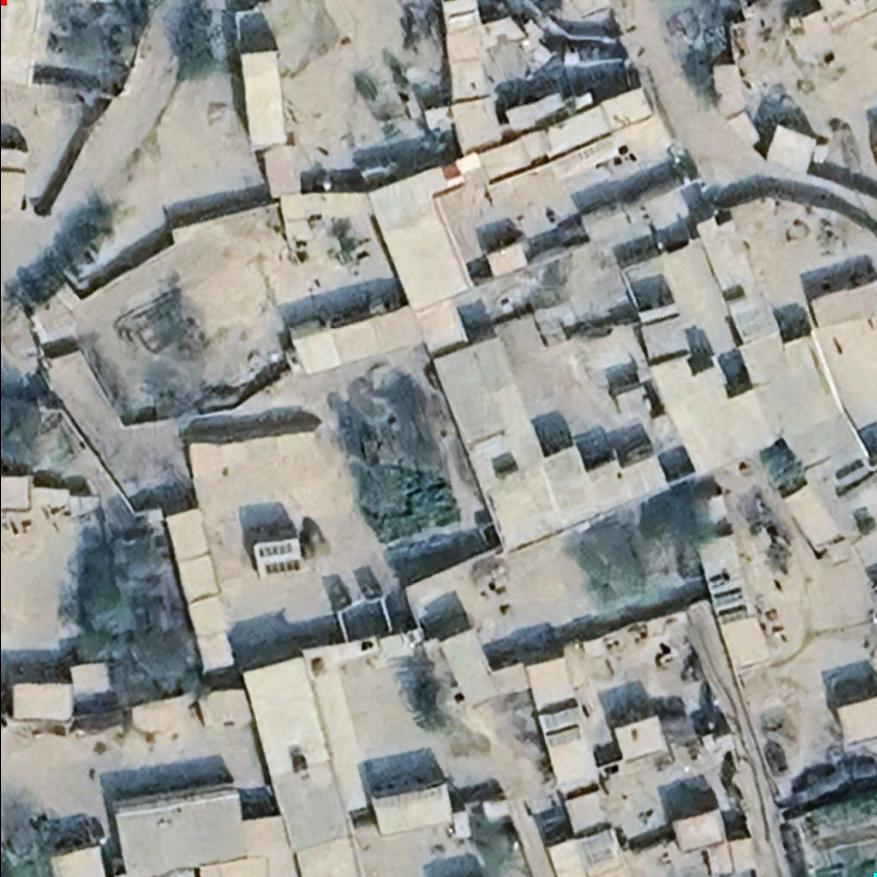Solarpanel: (706, 568, 754, 629), (537, 699, 589, 752), (259, 557, 306, 579), (256, 539, 293, 561)
